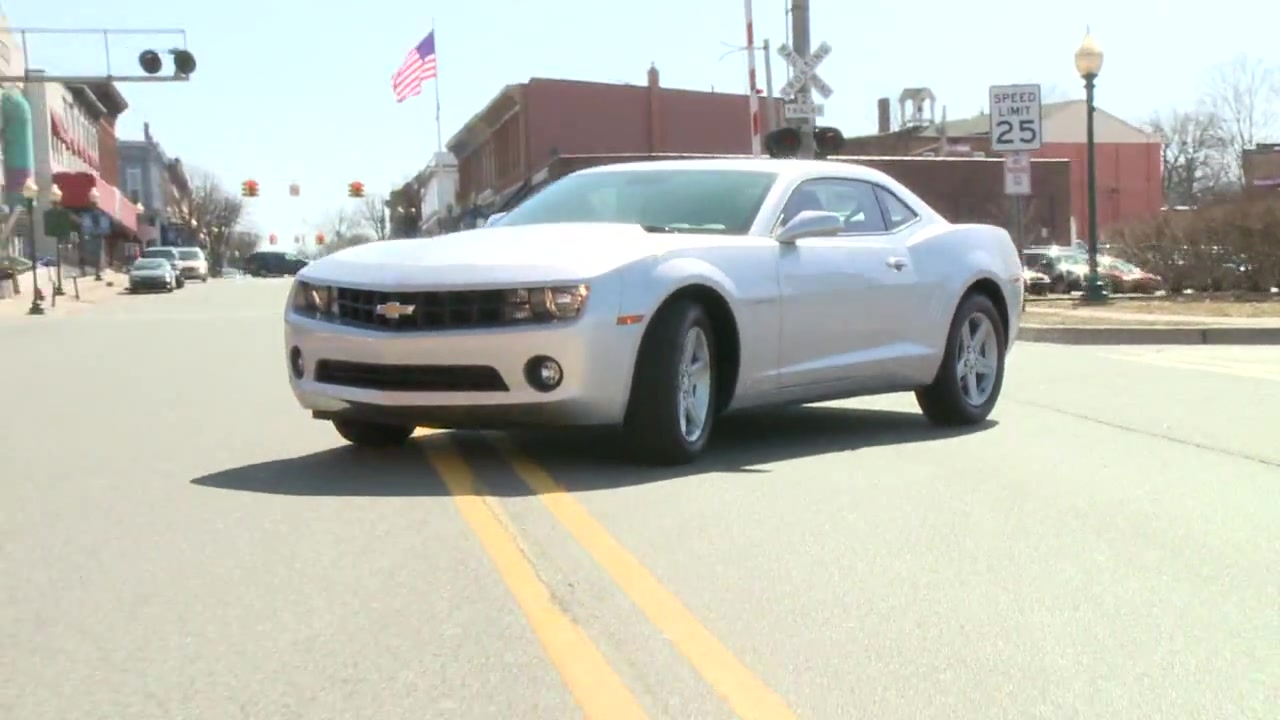car: (277, 152, 1031, 455)
